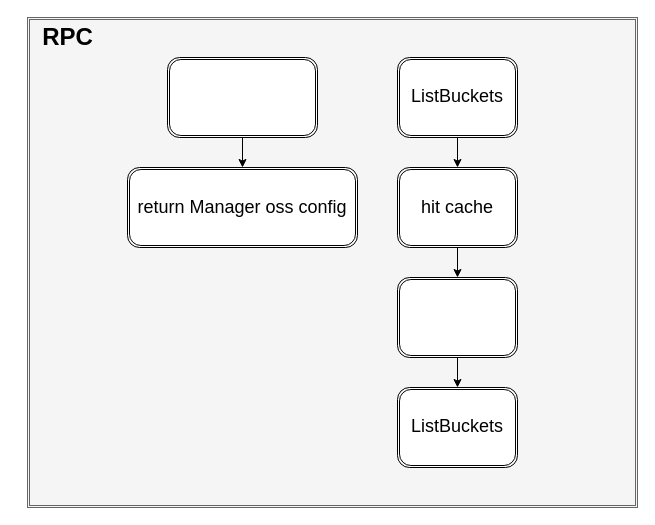
The diagram is 655 pixels wide and 525 high, and some of its shapes have lost their labels. Here are the shapes that lost their labels. From the top down, the centre of each, then its label:
point 242,97: GetObjectStorage
point 457,317: oss/s3 client
